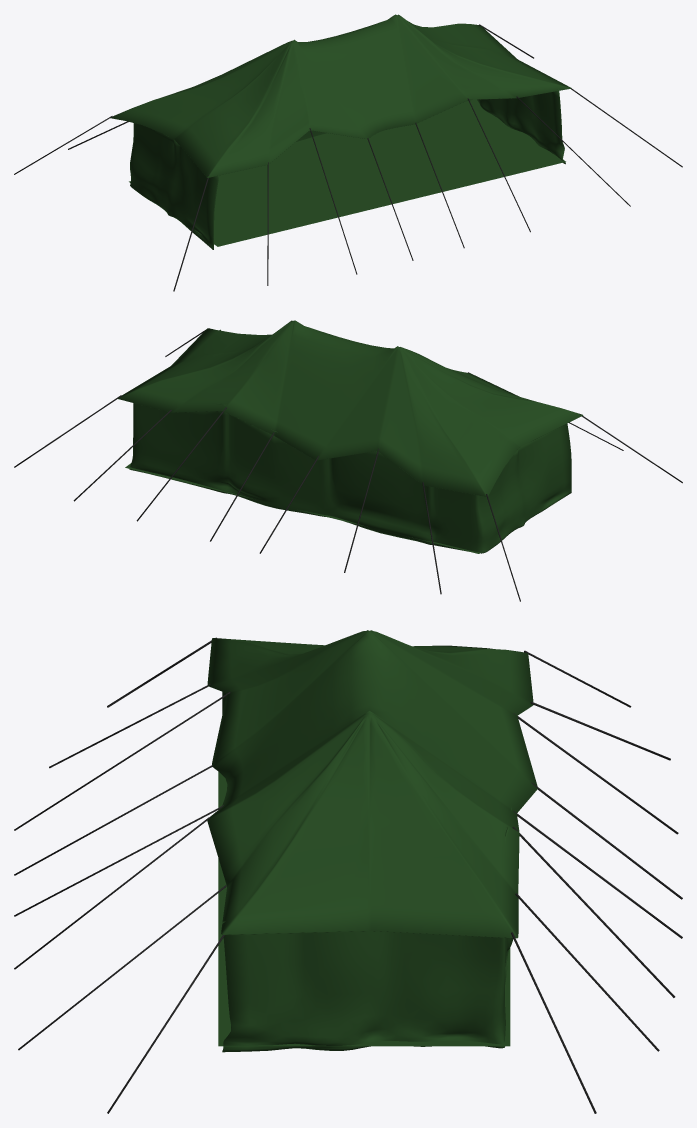
The model's file is MainTent.fbx.
3 views of the same model, one above another, from view 1: azimuth 30°, elevation 25°; view 2: azimuth 150°, elevation 25°; view 3: azimuth 270°, elevation 25° (orthographic). The views are drawn at different scales.
Visible parts, largest first — view 1: tent2; view 2: tent2; view 3: tent2.
Part boxes in pixels (<box>): tent2: <box>14,14,682,291</box>; tent2: <box>14,320,682,601</box>; tent2: <box>14,630,682,1113</box>.
Size of the model in its own units: 2678 by 741 by 1859.
